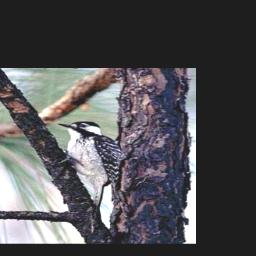Woodpecker: (55, 120, 123, 209)
